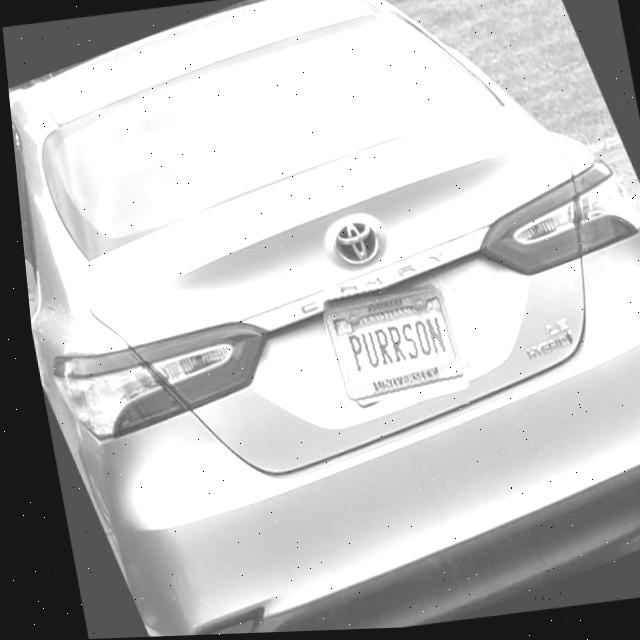LicensePlate: (317, 291, 459, 404)
